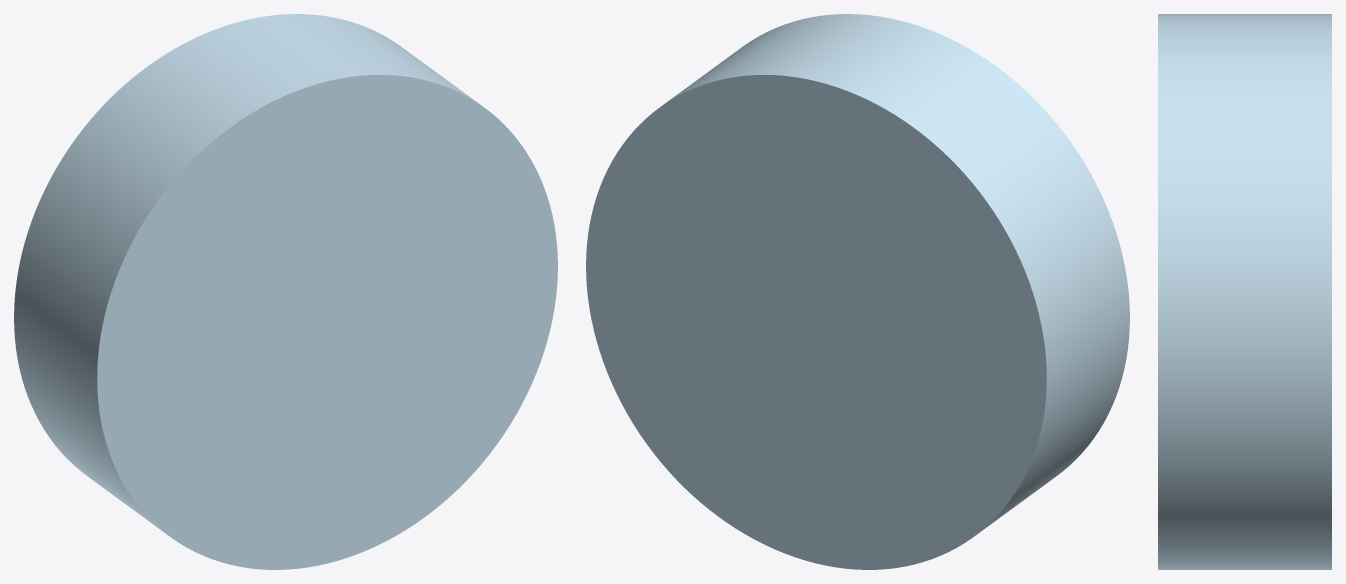
Rendered from unit.glb.
3 views of the same model, side by side, from view 1: azimuth 30°, elevation 25°; view 2: azimuth 150°, elevation 25°; view 3: azimuth 270°, elevation 25° (orthographic). The views are drawn at different scales.
Parts seen in each view (by area): view 1: Part 1; view 2: Part 1; view 3: Part 1.
Boxes of the visible parts, box(x1,y1,x2,y2) form: Part 1: box(14, 14, 557, 569); Part 1: box(586, 14, 1129, 569); Part 1: box(1158, 14, 1331, 569).
Size of the model in its own units: 2 by 2 by 0.625.
